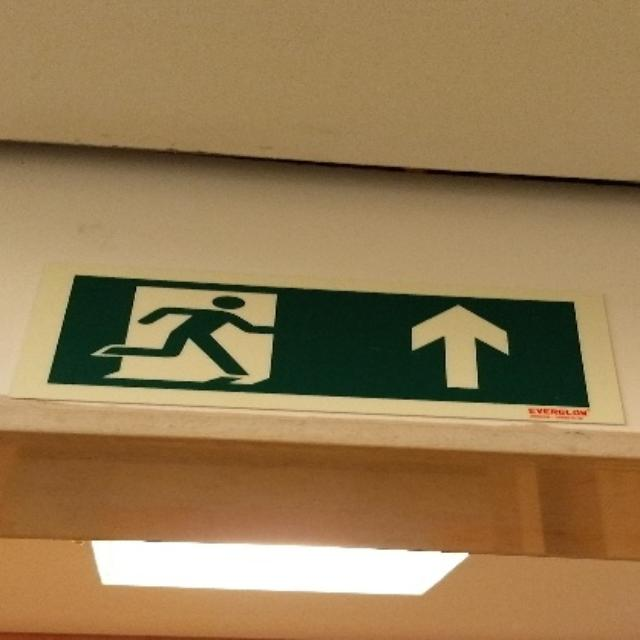exit: (15, 269, 622, 423)
